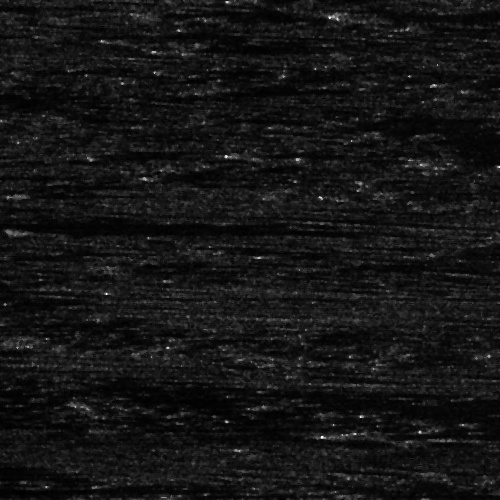object: (298, 427, 423, 438), (369, 433, 494, 444), (297, 6, 370, 19), (238, 148, 311, 157), (0, 224, 72, 233), (411, 23, 474, 30), (161, 41, 182, 52)
shadow: (36, 224, 370, 233), (0, 446, 111, 471), (0, 217, 226, 228), (333, 6, 500, 19), (0, 483, 213, 492), (172, 41, 314, 52), (361, 427, 500, 438), (275, 148, 419, 157), (432, 433, 500, 444), (442, 23, 500, 30)
